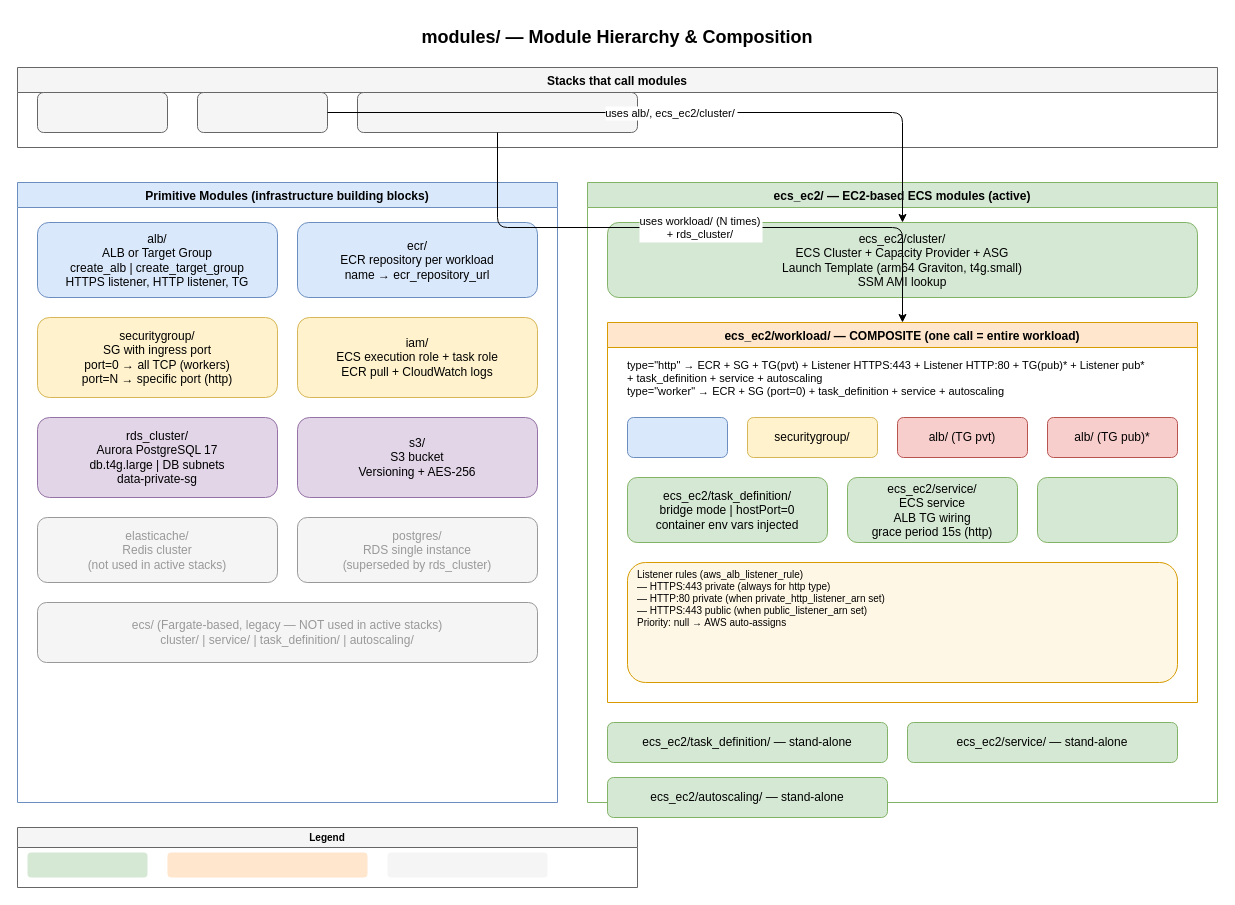
Image size: 1235x905. Some labels were removed from this diagram. The shapes that lost their labels are listed below. From the top down, each one's centre as x and y in pixels, then its label:
At point 102,112: "network/".
At point 262,112: "cluster/".
At point 497,112: "apps/ (app + app2, prod + homolog)".
At point 677,437: "ecr/".
At point 1107,509: "ecs_ec2/autoscaling/ CPU + memory tracking scale-in cooldown 60s".
At point 87,864: "■ Active module".
At point 267,864: "■ Composite (calls primitives)".
At point 467,864: "■ Legacy / not in use".
